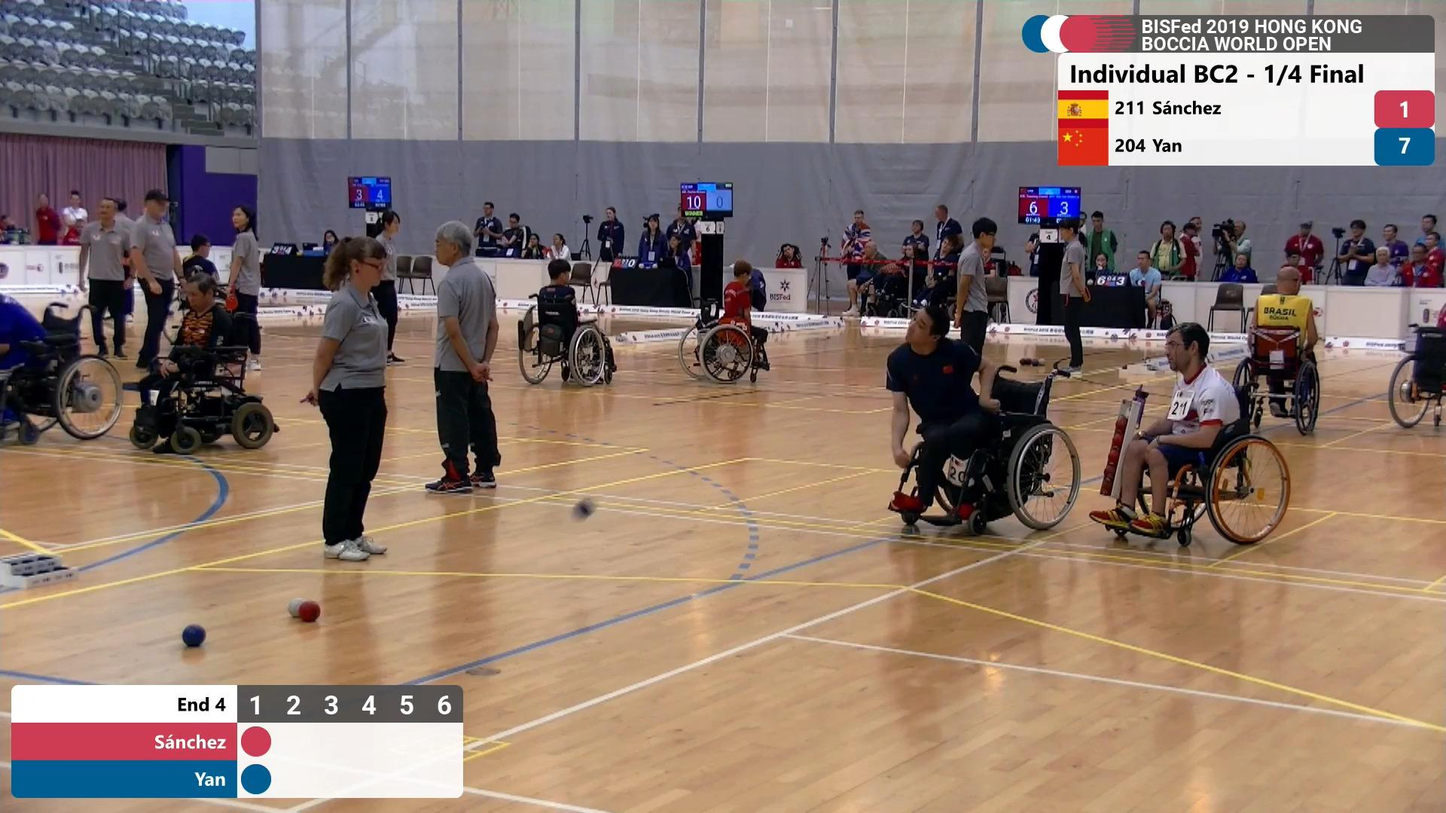blue_ball: (181, 622, 208, 649)
red_ball: (298, 599, 322, 624)
